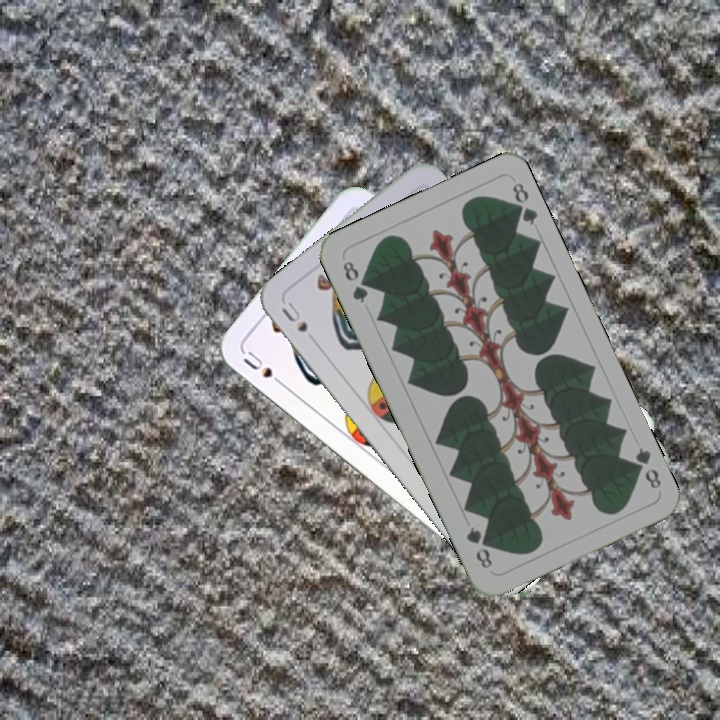G8: (626, 443, 664, 492), (338, 257, 371, 306)
SU: (239, 346, 290, 391), (277, 297, 311, 335)
